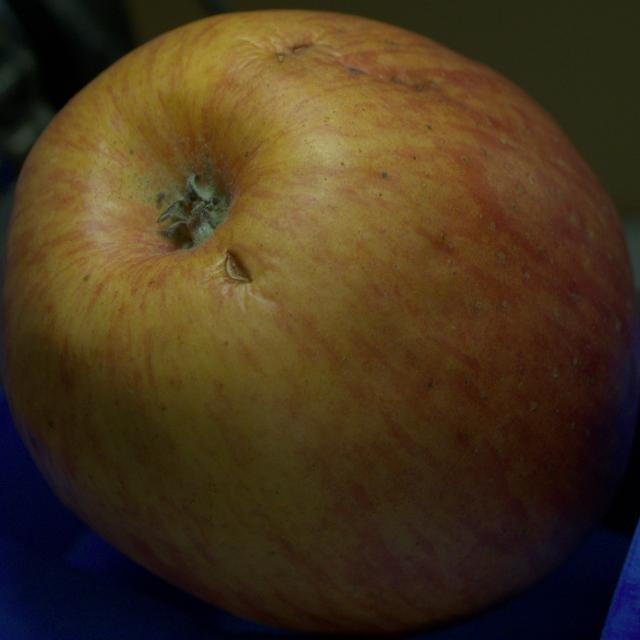apple: (0, 11, 639, 636)
scratch: (226, 252, 250, 281), (292, 44, 310, 52), (348, 67, 363, 73), (276, 53, 284, 62)
